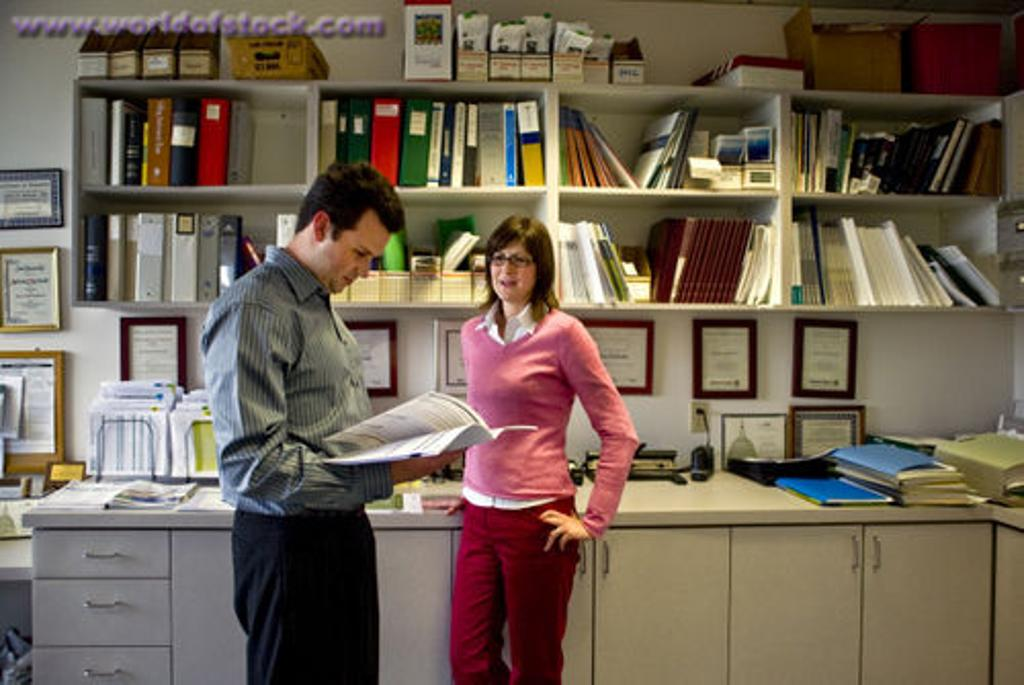face: (324, 207, 389, 293), (490, 240, 535, 300)
